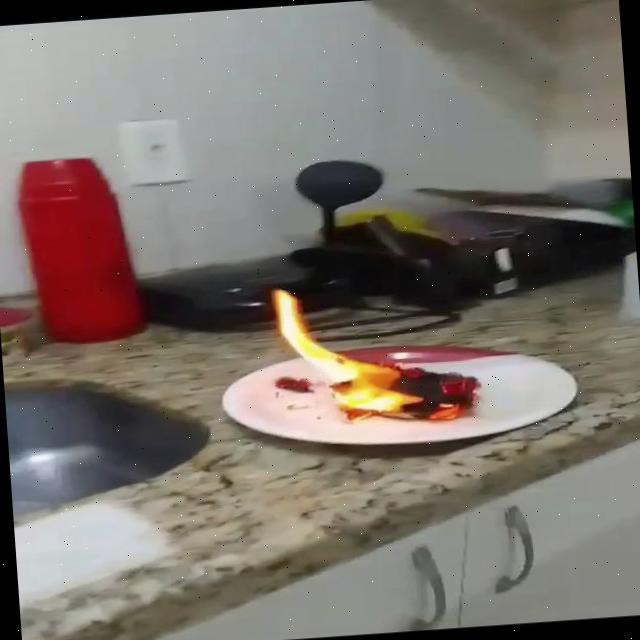fire: (265, 272, 492, 438)
